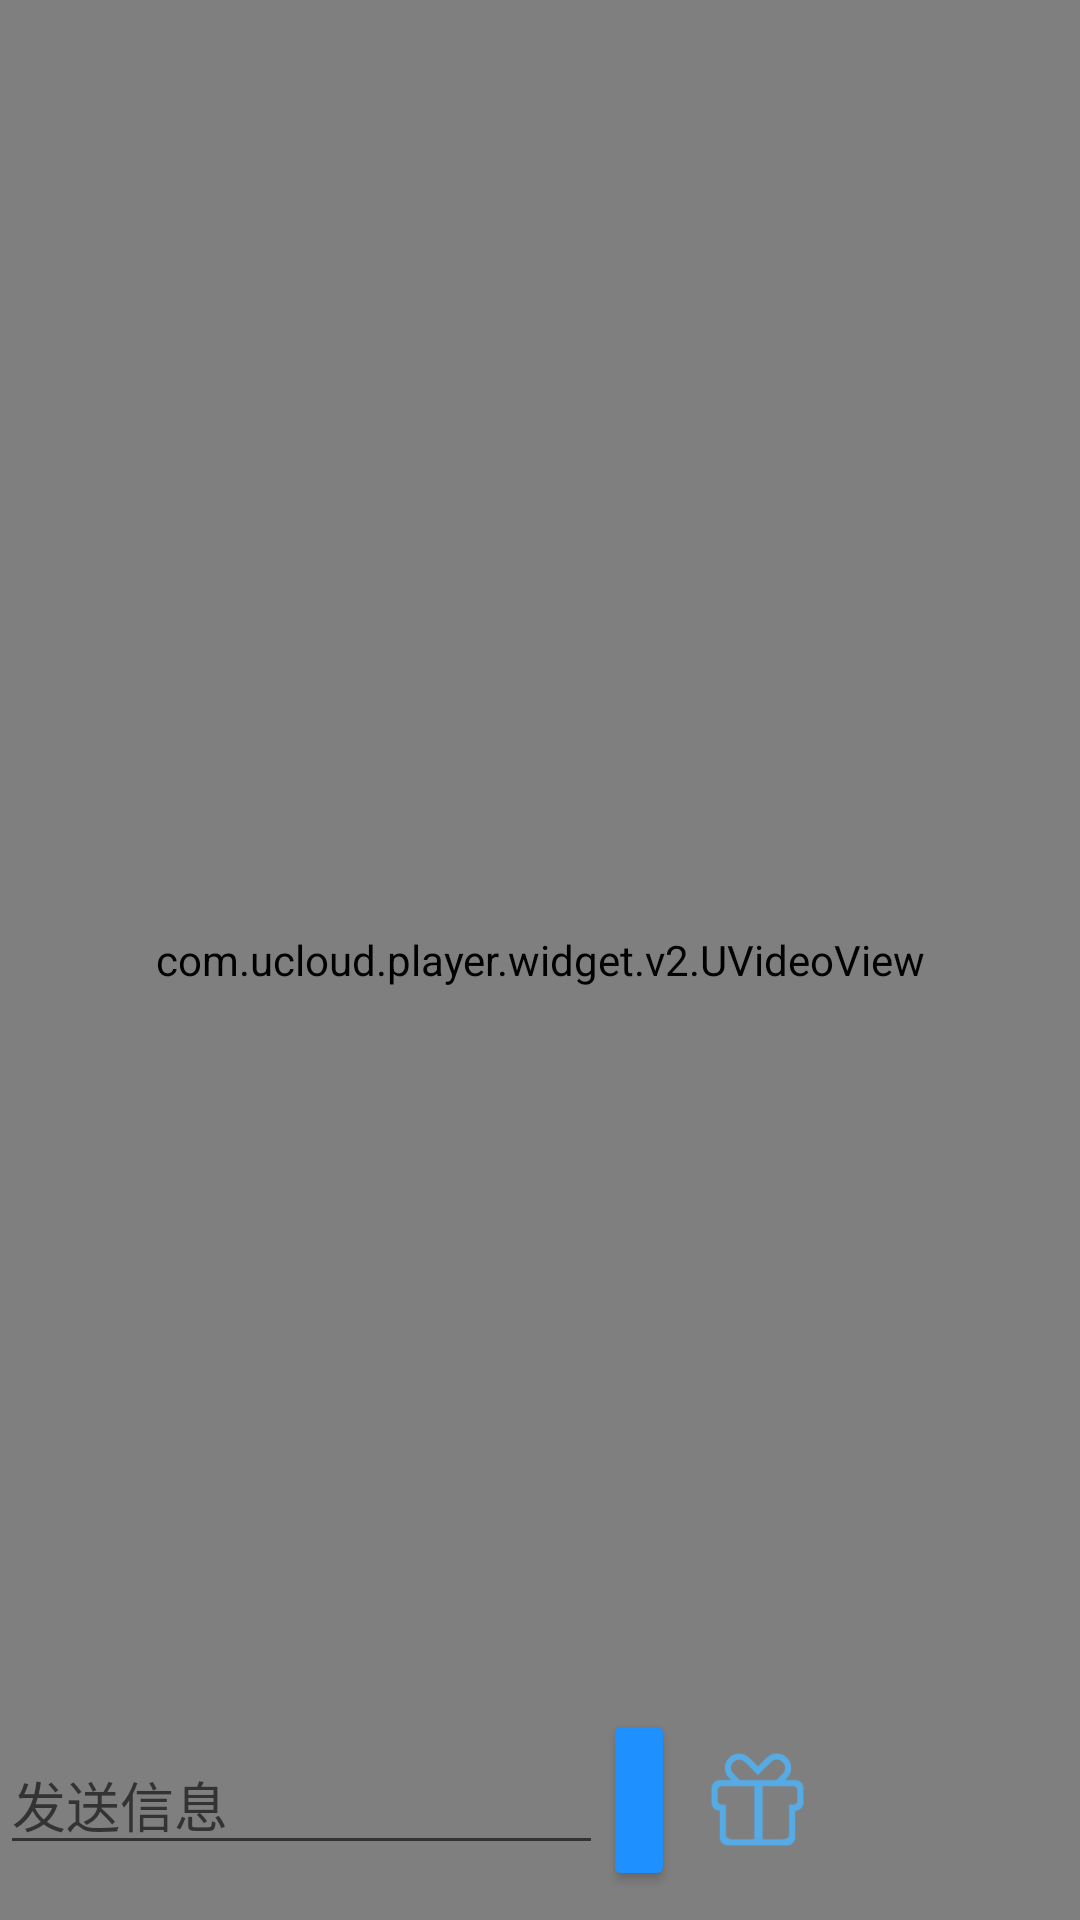

Icons on this 1080 × 1920 Android screen, each with its box as box=[x1, y1, x2, y2]:
gift: box=[711, 1753, 804, 1846]
